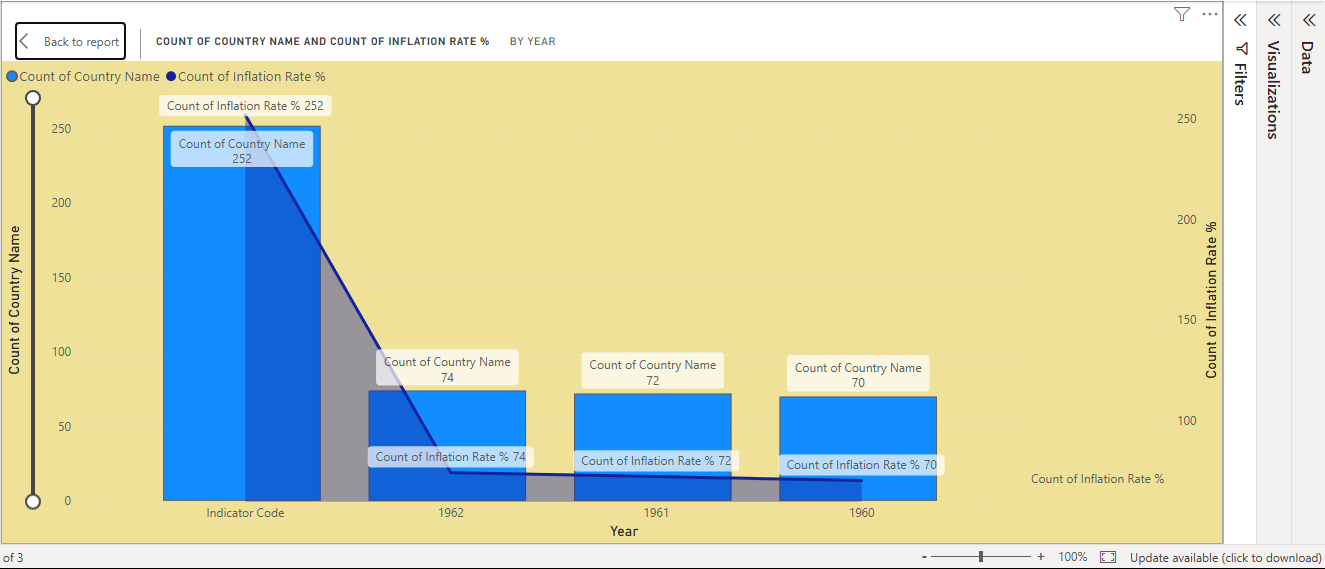

This screenshot's page, from the dashboard's own definition file:
{"tool":"powerbi","page":{"name":"Name by Year","canvas":[1280,720],"ordinal":2},"visuals":[{"type":"lineClusteredColumnComboChart","fields":{"Category":["Inflation_Data (2).Year"],"Y2":["CountNonNull(Inflation_Data (2).Inflation Rate %)"],"Y":["CountNonNull(Inflation_Data (2).Country Name)"]},"box":[0,0,724.3,720],"z":0},{"type":"advancedSlicerVisual","fields":{"Values":["Inflation_Data (2).Country Name"]},"box":[783.4,370.1,486.7,349.9],"z":1000},{"type":"tableEx","fields":{"Values":["Inflation_Data.1961","Inflation_Data.1960","Inflation_Data.1962","Inflation_Data (2).Country Name","Inflation_Data (2).Inflation Rate %","Inflation_Data (2).Year"]},"box":[783.4,0,496.8,348.5],"z":2000}]}

Visuals, with their boxes on the page's 1280x720 design canvas (x1, y1, x2, y2). These are canvas units, not pixel positions in the 1325x569 screenshot, which may show the page scaled, cropped or inside an application window:
lineClusteredColumnComboChart - Inflation_Data (2).Year x CountNonNull(Inflation_Data (2).Inflation Rate %): <region>0, 0, 724, 720</region>
advancedSlicerVisual - Inflation_Data (2).Country Name: <region>783, 370, 1270, 720</region>
tableEx - Inflation_Data.1961 x Inflation_Data.1960: <region>783, 0, 1280, 348</region>
